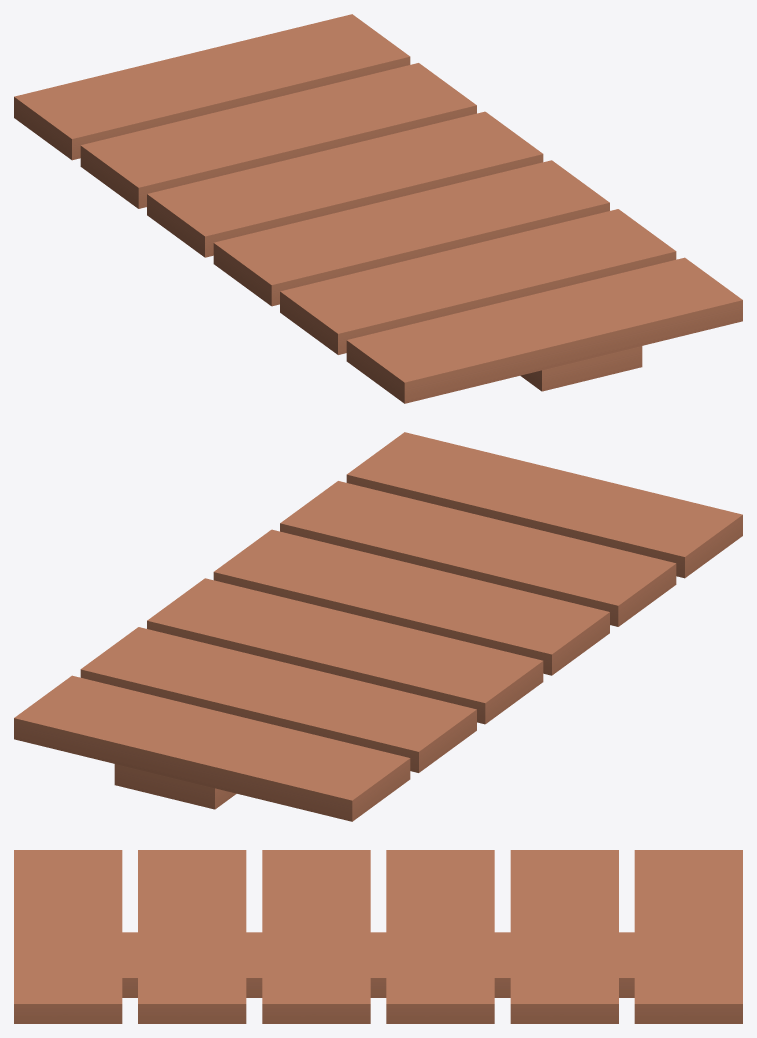
File: planks-half.fbx
3 views of the same model, one above another, from view 1: azimuth 30°, elevation 25°; view 2: azimuth 150°, elevation 25°; view 3: azimuth 270°, elevation 25° (orthographic). The views are drawn at different scales.
Visible parts, largest first — view 1: planks-half; view 2: planks-half; view 3: planks-half.
Part boxes in pixels (x1,y1,x2,y2): planks-half: [14, 14, 742, 403]; planks-half: [14, 432, 742, 821]; planks-half: [14, 850, 742, 1023].
Size of the model in its own units: 50 by 6 by 100.
Materials: 1 (1 with a texture image).
